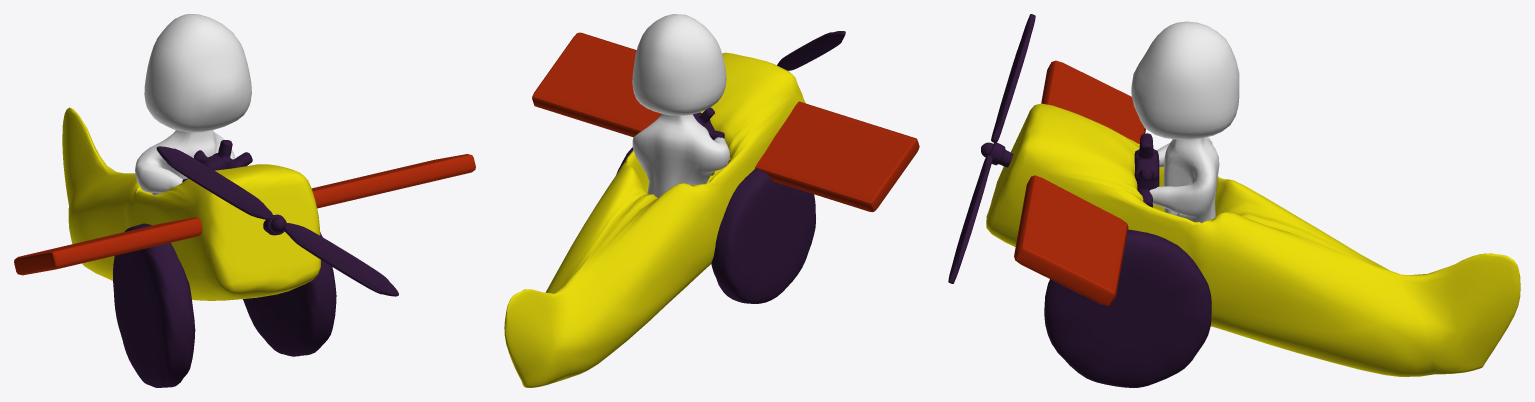
The model's file is MainCharacterPlane.fbx.
The picture shows the model from 3 angles, left to right: view 1: azimuth 30°, elevation 25°; view 2: azimuth 150°, elevation 25°; view 3: azimuth 270°, elevation 25°; orthographic projection. The views are drawn at different scales.
Parts seen in each view (by area): view 1: polySurface45, polySurface46, polySurface44, pCube33, polySurface47, polySurface43, polySurface48; view 2: polySurface45, pCube33, polySurface46, polySurface44, polySurface43, polySurface48; view 3: polySurface45, polySurface47, polySurface46, pCube33, polySurface43, polySurface48.
Boxes of the visible parts, x1,y1,x2,y2 form: polySurface45: (62, 107, 320, 300); polySurface46: (135, 14, 251, 194); polySurface44: (112, 223, 195, 387); pCube33: (14, 154, 475, 275); polySurface47: (243, 232, 336, 356); polySurface43: (156, 146, 398, 296); polySurface48: (182, 140, 252, 182); polySurface45: (504, 52, 805, 387); pCube33: (532, 32, 919, 212); polySurface46: (632, 14, 729, 197); polySurface44: (711, 169, 815, 303); polySurface43: (777, 31, 845, 70); polySurface48: (693, 107, 724, 139); polySurface45: (986, 103, 1520, 376); polySurface47: (1044, 229, 1211, 387); polySurface46: (1131, 21, 1239, 222); pCube33: (1014, 60, 1145, 305); polySurface43: (948, 14, 1035, 283); polySurface48: (1134, 133, 1159, 207).
Size of the model in its own units: 4.56 by 3.49 by 5.4.
